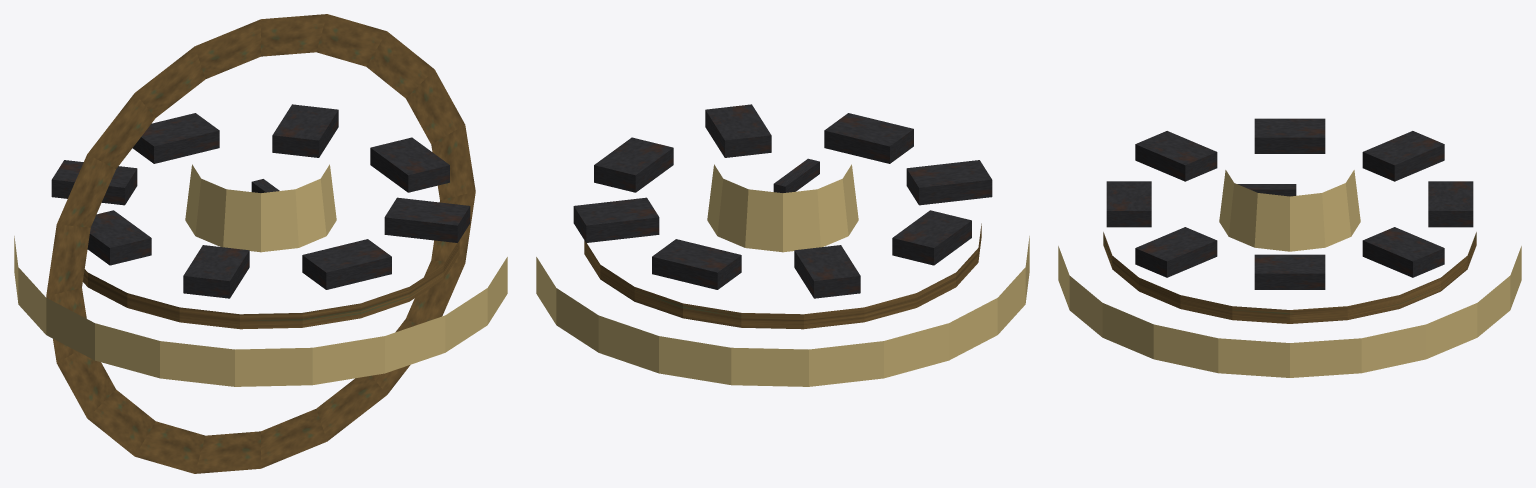
File: bagua_lock.glb
3 renders of one model, left to right at view 1: azimuth 30°, elevation 25°; view 2: azimuth 150°, elevation 25°; view 3: azimuth 270°, elevation 25°, orthographic. The views are drawn at different scales.
Parts seen in each view (by area): view 1: BaseRing, Base, Knob, Ring, Slot0, Slot1, Slot2, Slot4, Slot3, Slot7, Slot6, Slot5; view 2: Base, Knob, Ring, Slot4, Slot0, Slot3, Slot7, Slot2, Slot6, Slot1, Slot5, KnobMark; view 3: Base, Knob, Ring, Slot1, Slot3, Slot5, Slot7, Slot2, Slot6, Slot0, Slot4, KnobMark.
Part boxes in pixels (box(x1,y1,x2,y2)): BaseRing: box(46, 14, 475, 473); Base: box(14, 236, 507, 386); Knob: box(185, 164, 336, 252); Ring: box(83, 240, 459, 329); Slot0: box(302, 239, 391, 289); Slot1: box(384, 197, 470, 242); Slot2: box(370, 137, 449, 192); Slot4: box(132, 113, 219, 163); Slot3: box(272, 104, 338, 157); Slot7: box(183, 245, 249, 298); Slot6: box(87, 210, 151, 265); Slot5: box(51, 160, 137, 205); Base: box(536, 236, 1029, 386); Knob: box(707, 164, 858, 252); Ring: box(584, 223, 981, 329); Slot4: box(652, 239, 741, 289); Slot0: box(824, 113, 913, 163); Slot3: box(573, 197, 659, 242); Slot7: box(906, 160, 992, 205); Slot2: box(594, 137, 673, 192); Slot6: box(892, 210, 971, 265); Slot1: box(705, 104, 771, 157); Slot5: box(794, 245, 860, 298); KnobMark: box(773, 158, 819, 192); Base: box(1058, 246, 1521, 377); Knob: box(1219, 170, 1360, 251); Ring: box(1103, 232, 1476, 323); Slot1: box(1135, 227, 1217, 277); Slot3: box(1362, 227, 1444, 277); Slot5: box(1362, 131, 1444, 181); Slot7: box(1135, 131, 1217, 181); Slot2: box(1254, 254, 1325, 289); Slot6: box(1254, 118, 1325, 153); Slot0: box(1106, 181, 1151, 227); Slot4: box(1428, 181, 1473, 227); KnobMark: box(1237, 184, 1296, 196).
Size of the model in its own units: 0.36 by 0.36 by 0.36.
3 materials, 2 textured.
